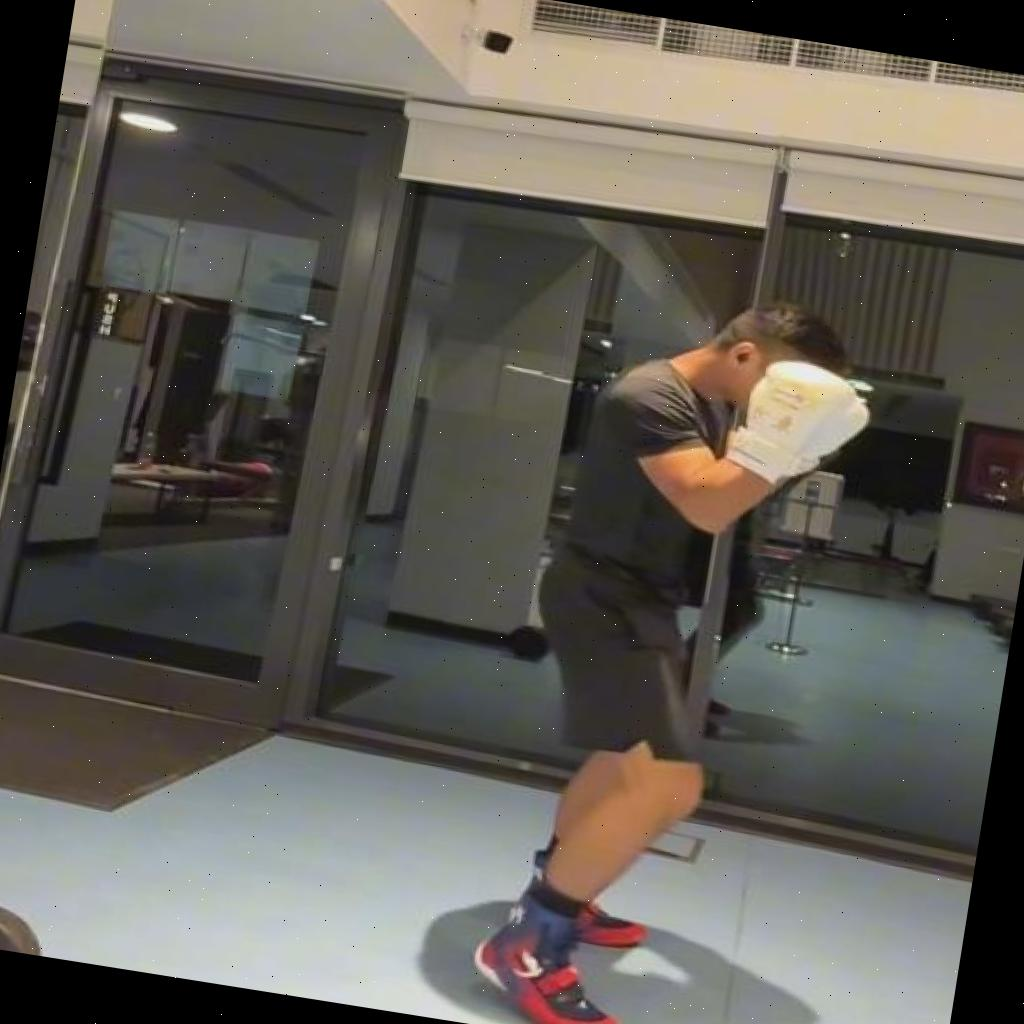no punch: (460, 261, 888, 1024)
